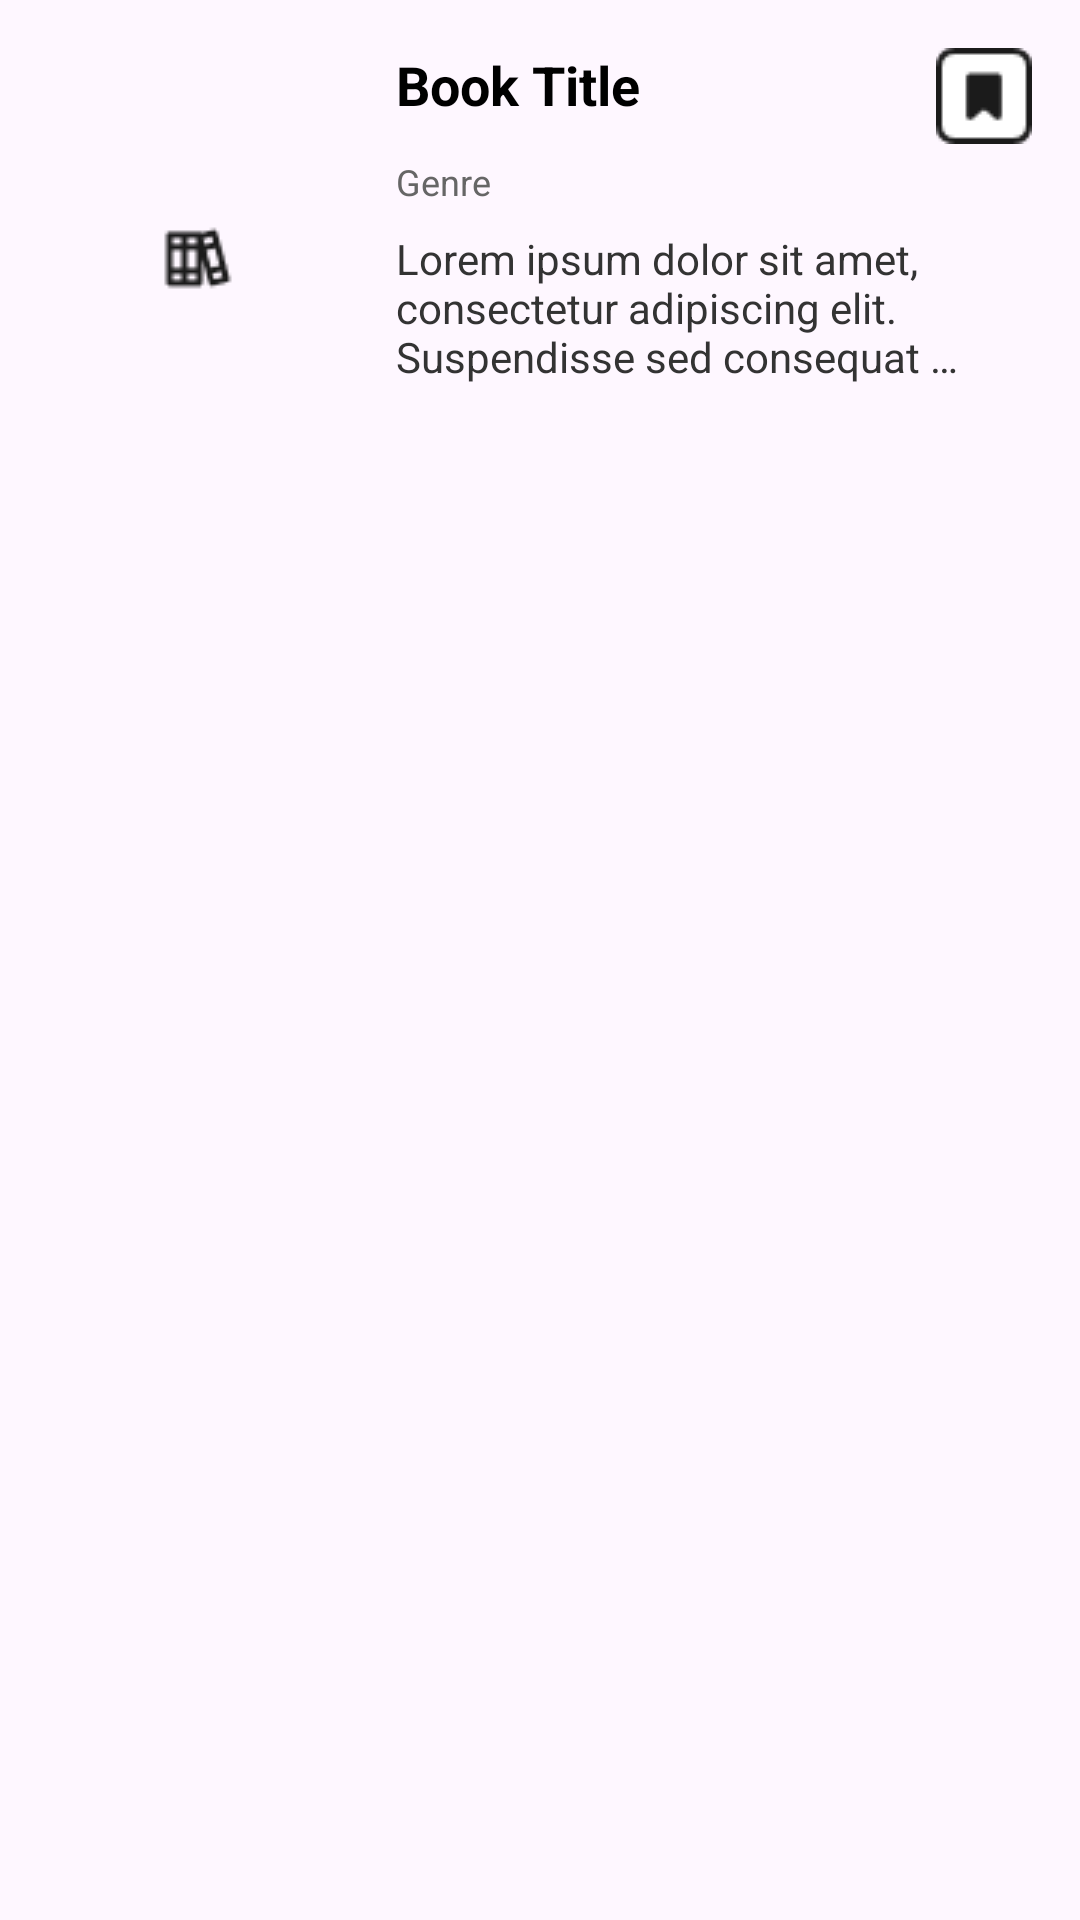

Where icons sit on this 1080w x 1920h app screen, as (x1, y1, x2, y2):
Bookmark: (936, 48, 1032, 144)
